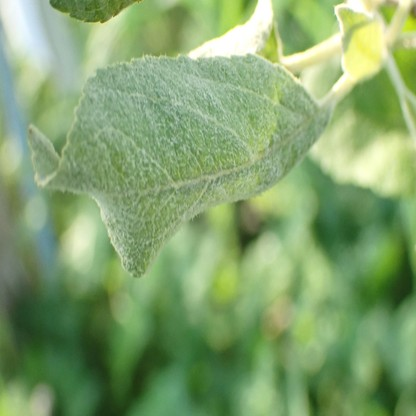powder: (28, 52, 324, 280)
